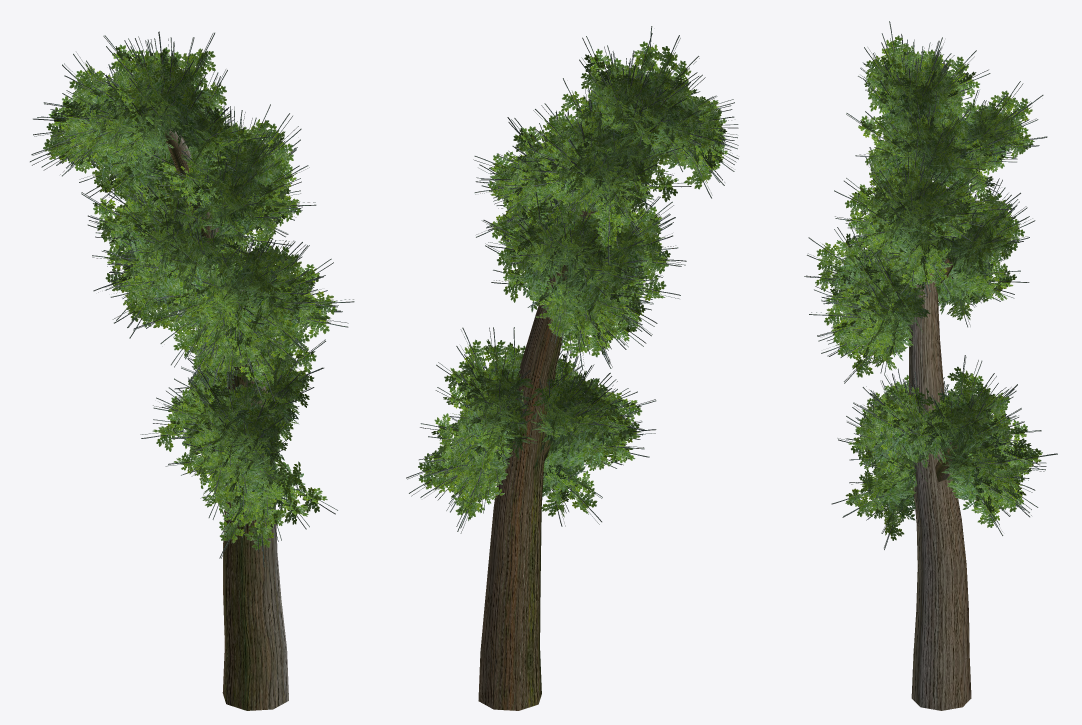
File: eztree-black-walnut-stand-a.glb
3 views of the same model, side by side, from view 1: azimuth 30°, elevation 25°; view 2: azimuth 150°, elevation 25°; view 3: azimuth 270°, elevation 25° (orthographic). The views are drawn at different scales.
Parts seen in each view (by area): view 1: eztree-black-walnut-stand-a; view 2: eztree-black-walnut-stand-a; view 3: eztree-black-walnut-stand-a.
Part boxes in pixels (x1=…): eztree-black-walnut-stand-a: x1=30, y1=31, x2=354, y2=710; eztree-black-walnut-stand-a: x1=406, y1=26, x2=738, y2=710; eztree-black-walnut-stand-a: x1=804, y1=21, x2=1057, y2=710.
Bounding box in the file's own units: 29.75 × 60.09 × 24.47.
Materials: 2 (2 with a texture image).
